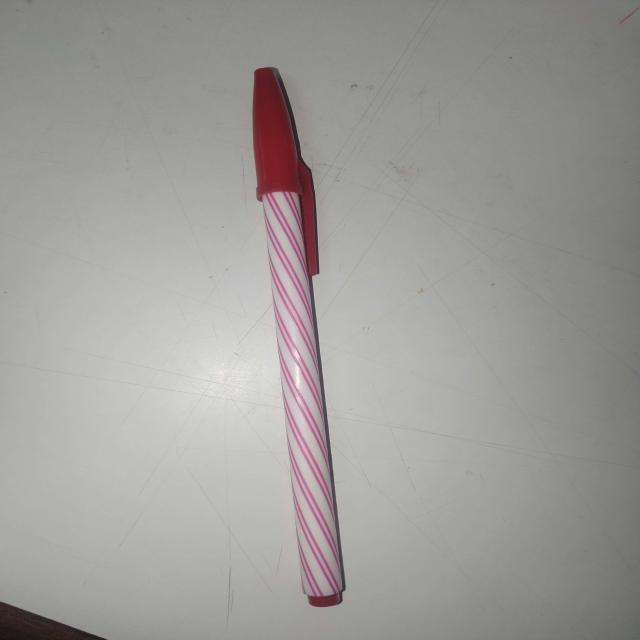pen_pencil: (206, 56, 428, 640)
